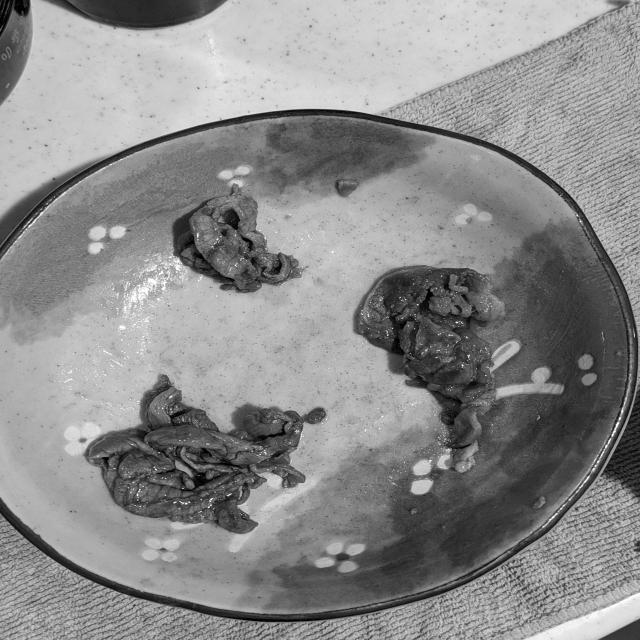OK cooked beef,: (82, 364, 327, 538), (347, 261, 515, 464), (172, 180, 321, 304)
